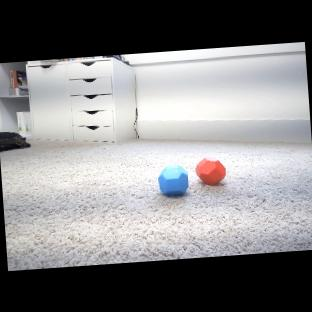V5_BLUE: (157, 162, 190, 197)
V5_RED: (195, 155, 227, 186)
